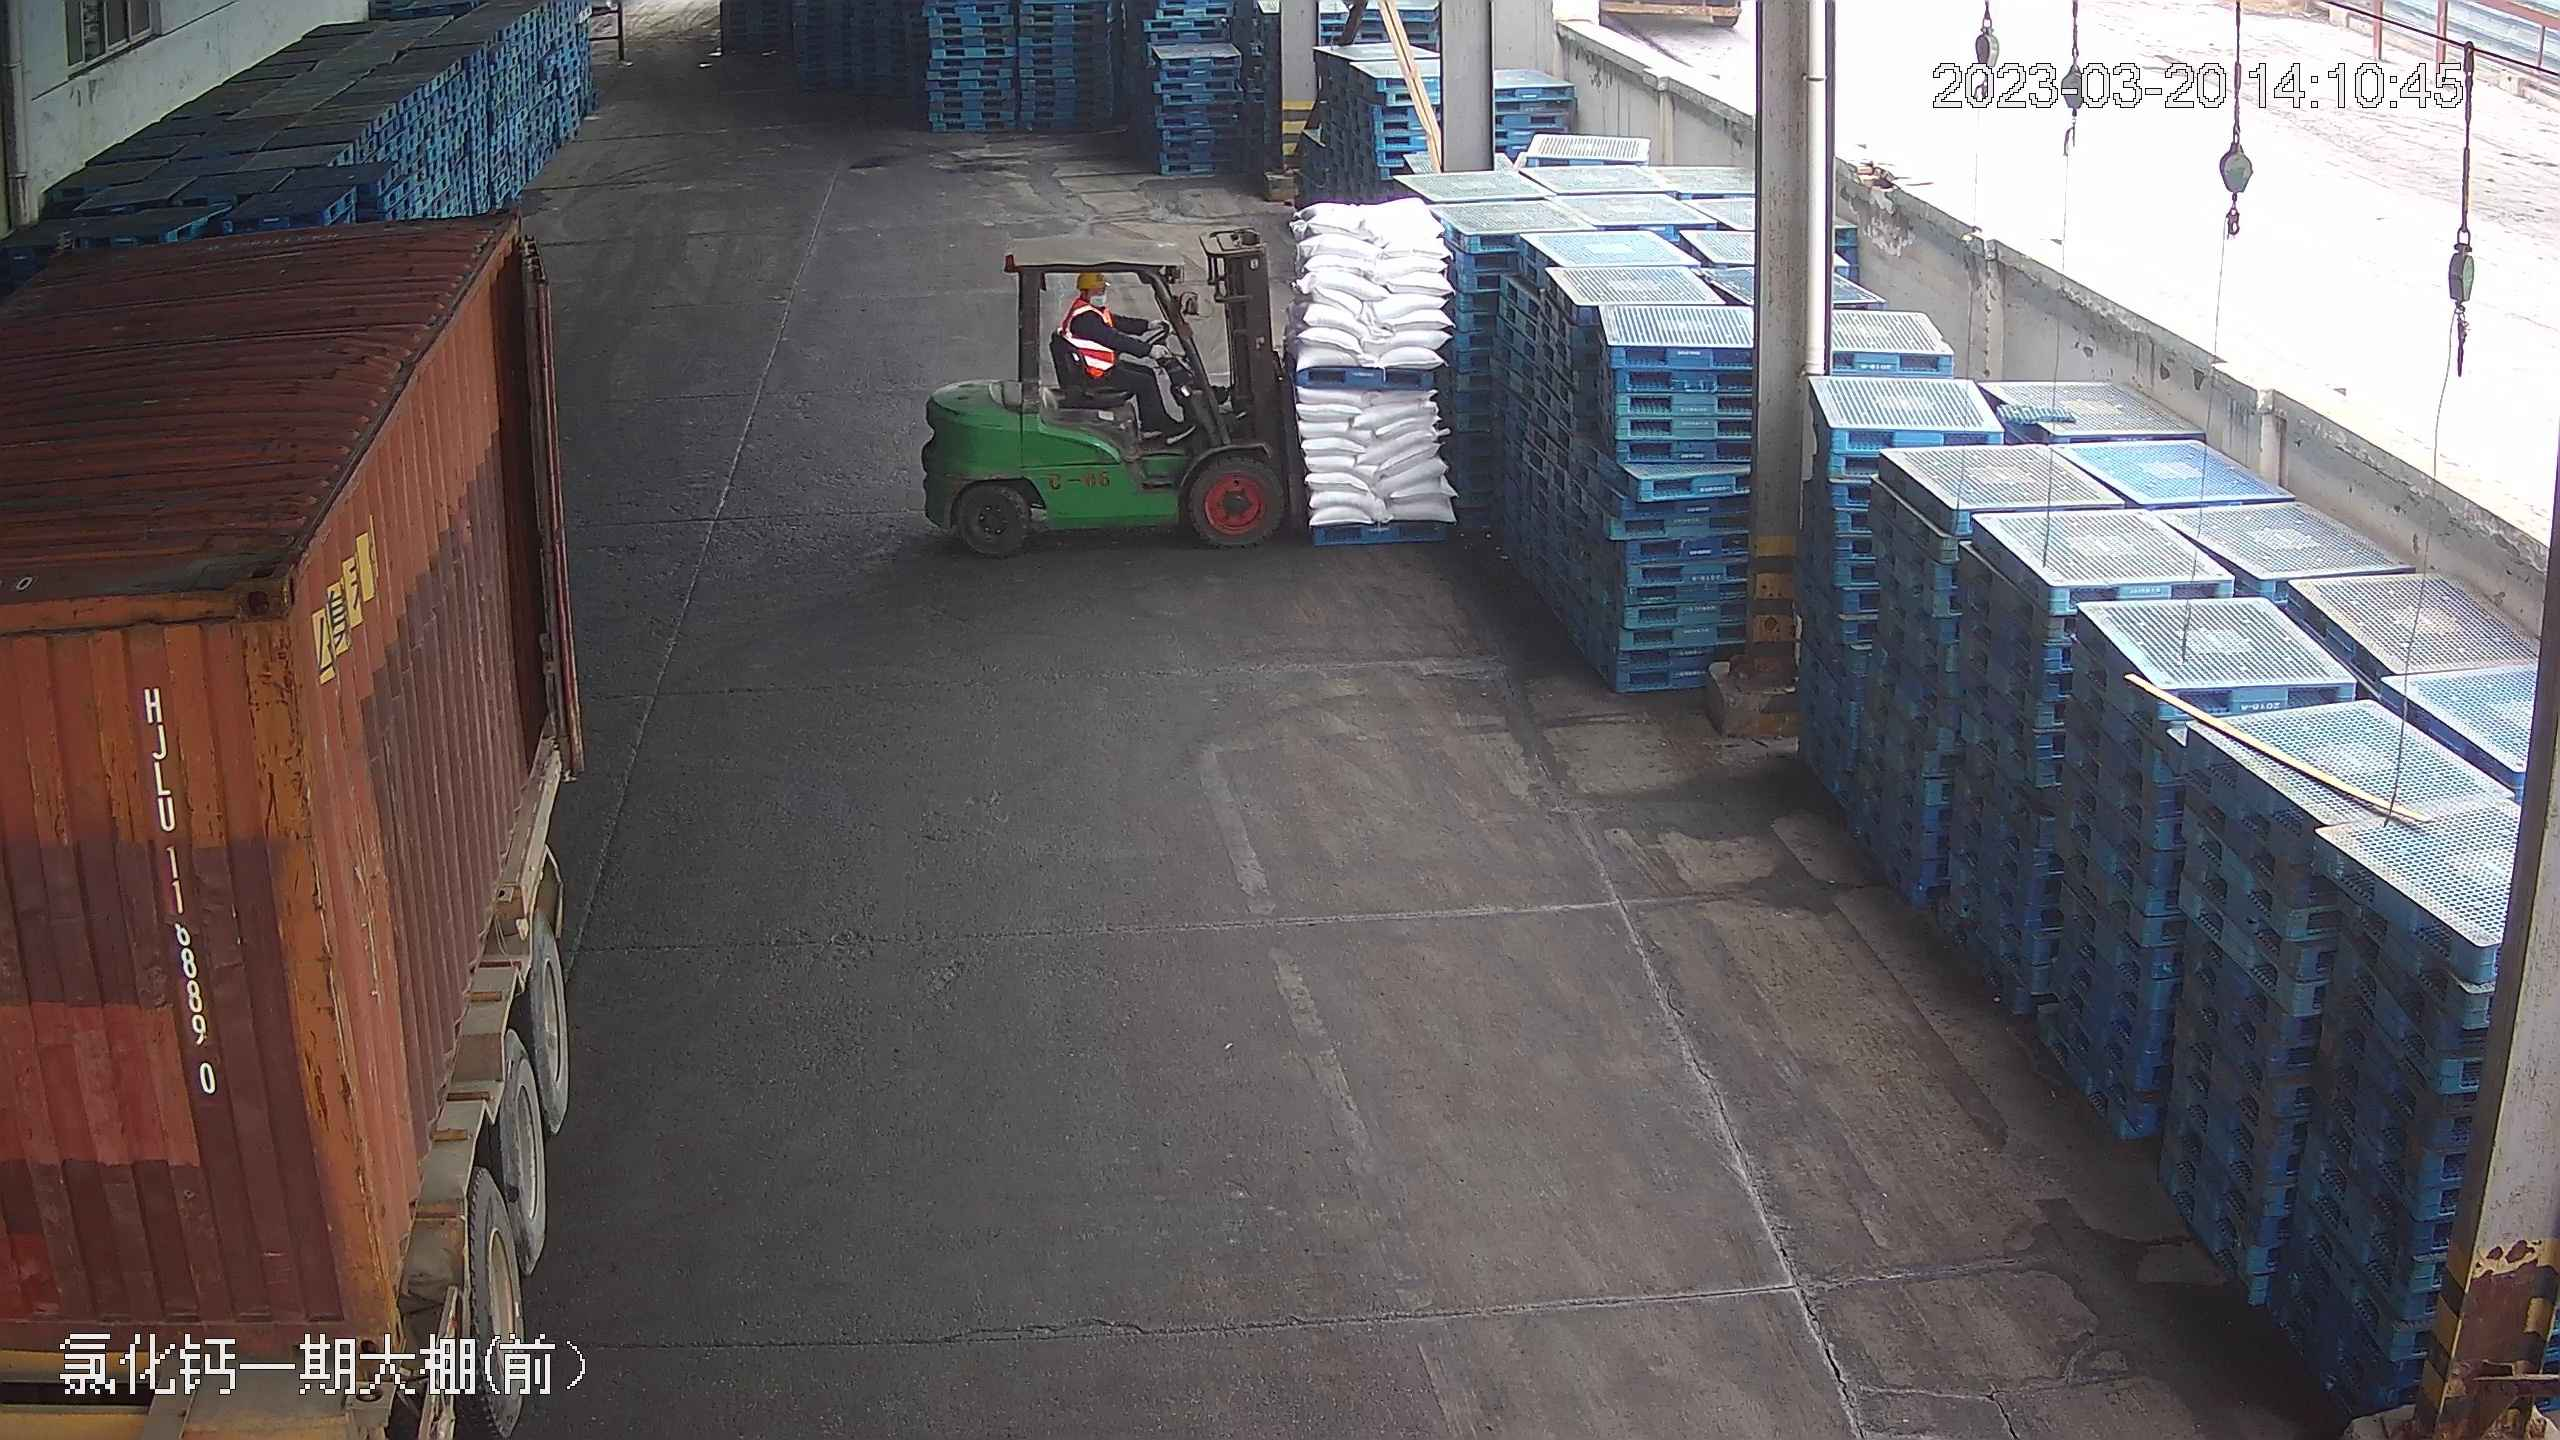head: (1060, 268, 1119, 338)
helmet: (1074, 269, 1111, 291)
people: (1058, 266, 1186, 435)
truck: (0, 174, 636, 1399)
